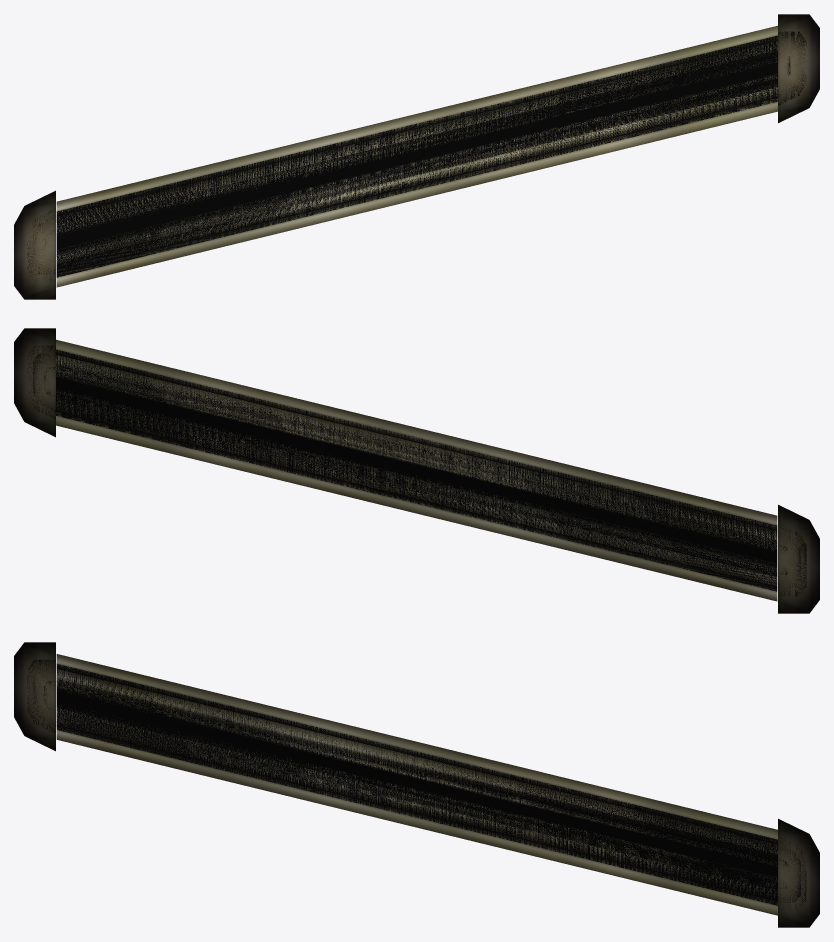
File: progress_bar.fbx
3 renders of one model, top to bottom at view 1: azimuth 30°, elevation 25°; view 2: azimuth 150°, elevation 25°; view 3: azimuth 330°, elevation 25°, orthographic.
Parts seen in each view (by area): view 1: pPlane57.003, pPlane57.002, pPlane55.003, pPlane54.003, pPlane55.002, pPlane54.002, polySurface1.003, polySurface2.003, pPlane57.001, pPlane55.001, pPlane54.001, polySurface2.002 (+2 smaller); view 2: pPlane57.003, pPlane57.002, pPlane54.003, pPlane55.003, pPlane54.002, pPlane57.001, pPlane54.001, pPlane55.002, polySurface2.003, polySurface1.003, pPlane57, pPlane55.001 (+5 smaller); view 3: pPlane57.003, pPlane57.002, pPlane55.003, pPlane54.003, pPlane57.001, pPlane54.002, pPlane55.002, polySurface1.003, polySurface2.003, pPlane55.001, pPlane54, pPlane57 (+5 smaller).
Boxes of the visible parts, <box> form: pPlane57.003: <box>56,35,777,277</box>; pPlane57.002: <box>56,50,777,260</box>; pPlane55.003: <box>56,98,777,287</box>; pPlane54.003: <box>56,25,777,213</box>; pPlane55.002: <box>58,83,777,270</box>; pPlane54.002: <box>56,41,777,224</box>; polySurface1.003: <box>14,190,55,299</box>; polySurface2.003: <box>778,14,819,123</box>; pPlane57.001: <box>57,59,776,241</box>; pPlane55.001: <box>56,94,749,263</box>; pPlane54.001: <box>57,51,771,235</box>; polySurface2.002: <box>778,31,806,105</box>; pPlane57.003: <box>56,349,777,591</box>; pPlane57.002: <box>56,365,777,576</box>; pPlane54.003: <box>56,339,777,528</box>; pPlane55.003: <box>56,412,777,601</box>; pPlane54.002: <box>56,355,777,543</box>; pPlane57.001: <box>56,373,777,561</box>; pPlane54.001: <box>56,363,777,549</box>; pPlane55.002: <box>56,399,776,585</box>; polySurface2.003: <box>14,328,55,437</box>; polySurface1.003: <box>778,504,819,613</box>; pPlane57: <box>58,378,777,561</box>; pPlane55.001: <box>57,392,776,577</box>; pPlane57.003: <box>56,664,777,905</box>; pPlane57.002: <box>56,679,777,890</box>; pPlane55.003: <box>56,727,777,915</box>; pPlane54.003: <box>56,654,777,843</box>; pPlane57.001: <box>56,686,777,882</box>; pPlane54.002: <box>56,669,777,854</box>; pPlane55.002: <box>56,712,777,898</box>; polySurface1.003: <box>14,642,55,751</box>; polySurface2.003: <box>778,818,819,927</box>; pPlane55.001: <box>57,707,775,890</box>; pPlane54: <box>59,686,777,866</box>; pPlane57: <box>56,691,777,868</box>.
Bounding box in the file's own units: 208 × 26.93 × 4.39e-06.
1 material, 1 textured.
